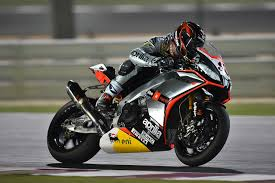motorcycle: (41, 44, 235, 167)
